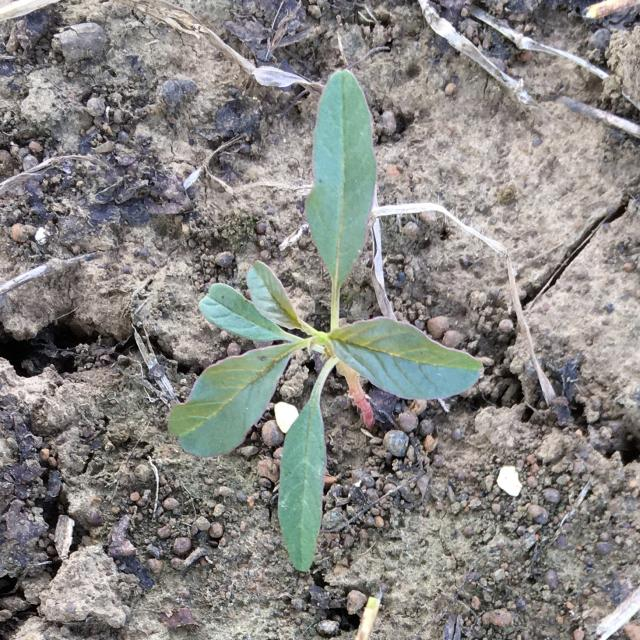Waterhemp: (169, 70, 483, 574)
